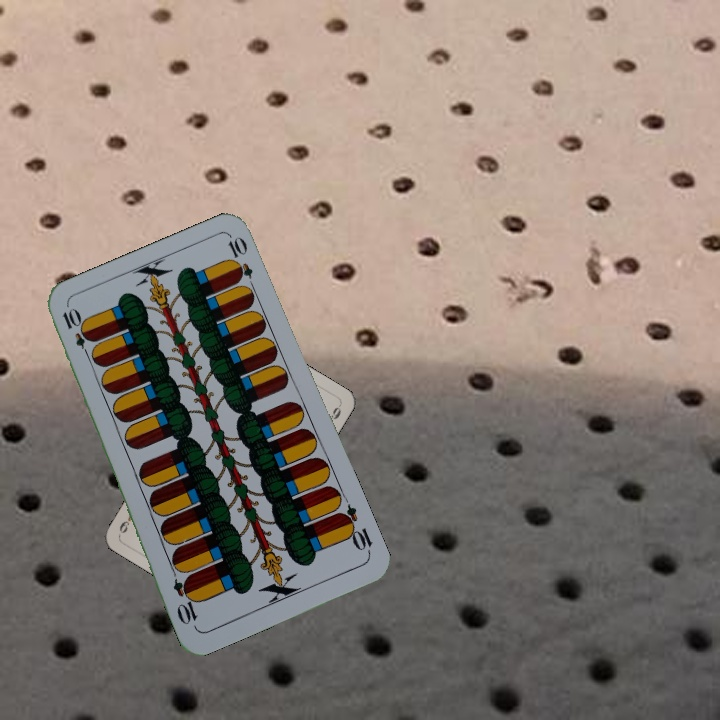E10: (334, 501, 375, 557), (58, 305, 95, 361)
